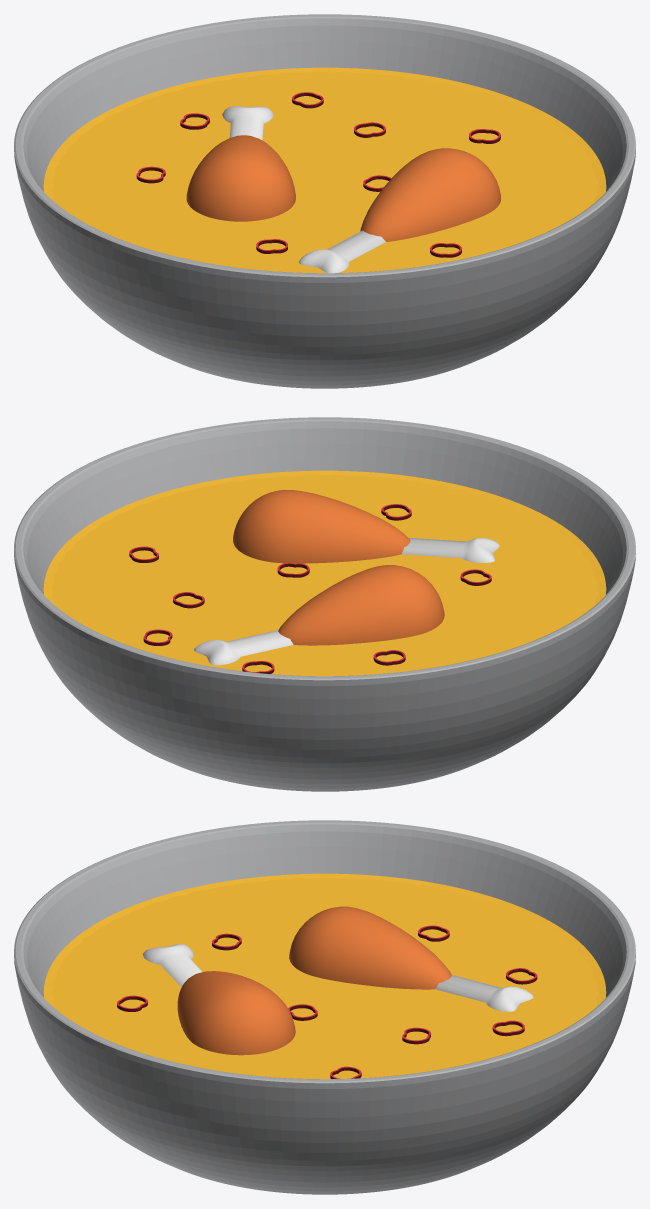
Rendered from tavuk çorbası.fbx.
3 views of the same model, one above another, from view 1: azimuth 30°, elevation 25°; view 2: azimuth 150°, elevation 25°; view 3: azimuth 270°, elevation 25° (orthographic).
Visible parts, largest first — view 1: Cylinder.001; view 2: Cylinder.001; view 3: Cylinder.001.
Part boxes in pixels (x1,y1,x2,y2): Cylinder.001: (14,14,635,388); Cylinder.001: (14,417,635,791); Cylinder.001: (14,820,635,1194).
Size of the model in its own units: 198 by 64.94 by 198.
